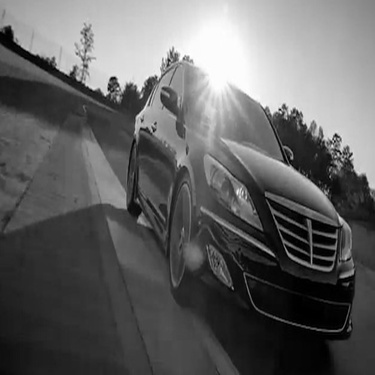car: (120, 51, 357, 348)
